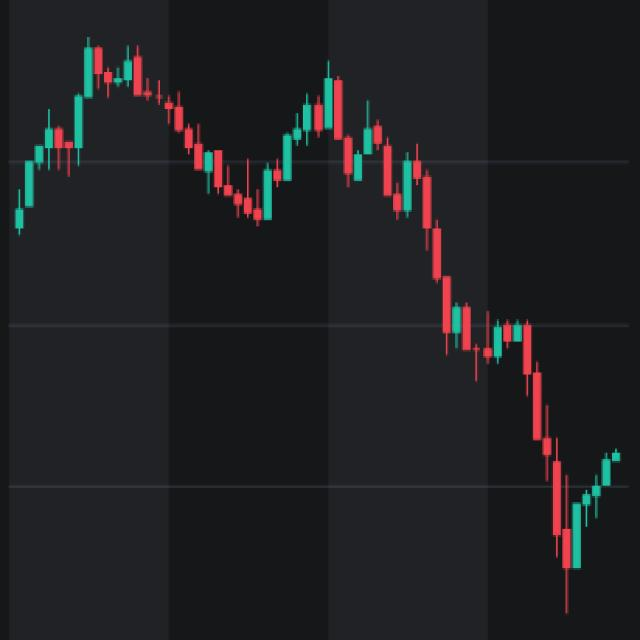Support-breakout: (267, 67, 562, 539)
